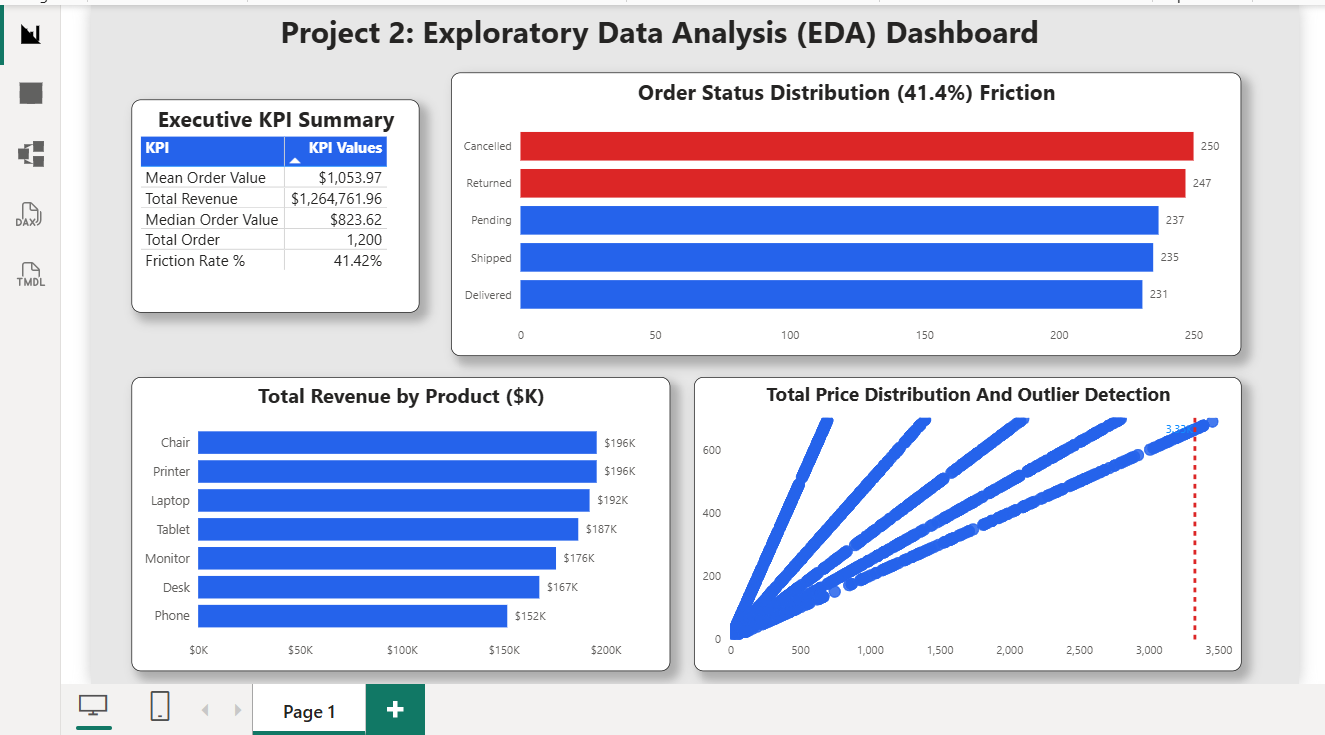

This screenshot's page, from the dashboard's own definition file:
{"tool":"powerbi","page":{"name":"Page 1","canvas":[1280,720],"ordinal":0},"visuals":[{"type":"tableEx","title":"Executive KPI Summary ","fields":{"Values":["KPI Table.KPI","KPI Table.KPI Values"]},"box":[42.9,100.2,305.4,225.9],"z":0},{"type":"clusteredBarChart","title":"Order Status Distribution (41.4%) Friction","fields":{"Category":["Task 1.OrderStatus"],"Y":["-measures.Total Orders"]},"box":[381.7,71.6,838.3,300.6],"z":1},{"type":"clusteredBarChart","title":"Total Revenue by Product ($K)","fields":{"Category":["Task 1.Product"],"Y":["-measures.Total Revenue"]},"box":[42.9,394.5,571,311.8],"z":2},{"type":"scatterChart","title":"Total Price Distribution And Outlier Detection ","fields":{"Category":["Task 1.OrderID"],"X":["Sum(Task 1.TotalPrice)"],"Y":["Sum(Task 1.UnitPrice)"]},"box":[639.4,394.5,580.6,311.8],"z":3},{"type":"textbox","box":[195.6,0,858.9,71.6],"z":4}]}

Visuals, with their boxes on the page's 1280x720 design canvas (x1, y1, x2, y2). These are canvas units, not pixel positions in the 1325x735 screenshot, which may show the page scaled, cropped or inside an application window:
"Executive KPI Summary " tableEx: 43 100 348 326
"Order Status Distribution (41.4%) Friction" clusteredBarChart: 382 72 1220 372
"Total Revenue by Product ($K)" clusteredBarChart: 43 394 614 706
"Total Price Distribution And Outlier Detection " scatterChart: 639 394 1220 706
textbox: 196 0 1054 72
